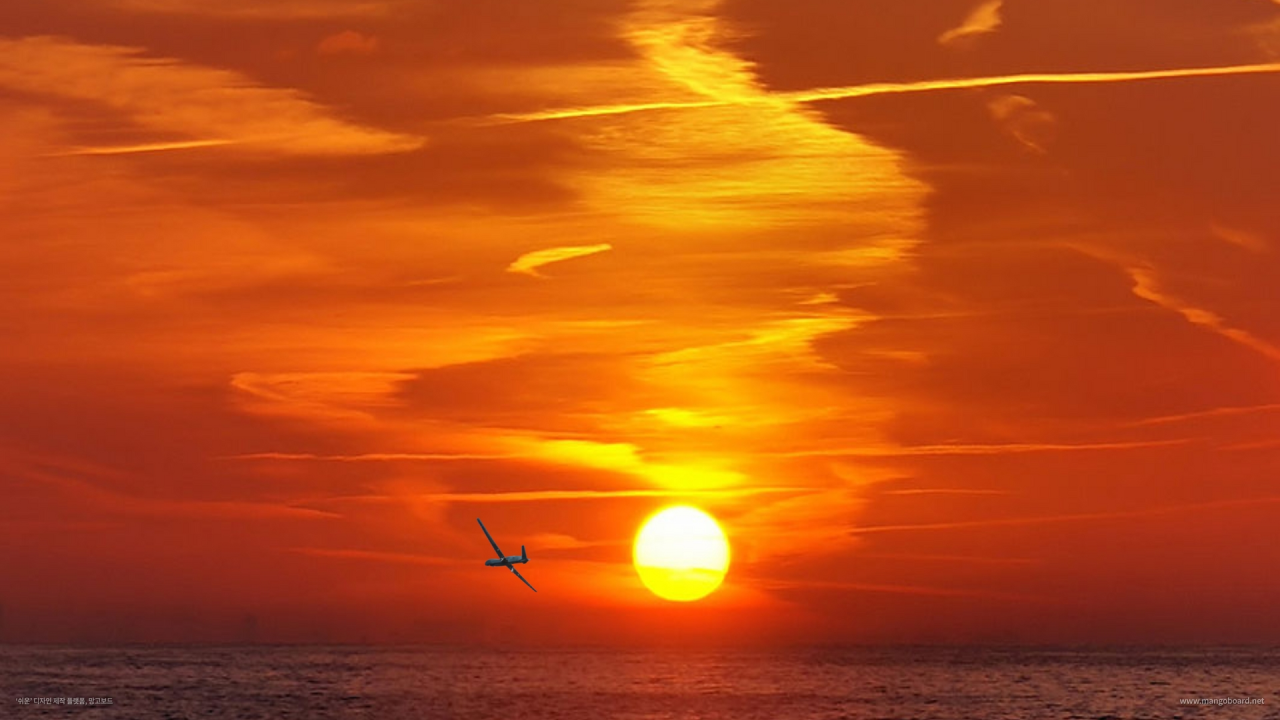military drone: (474, 515, 536, 593)
